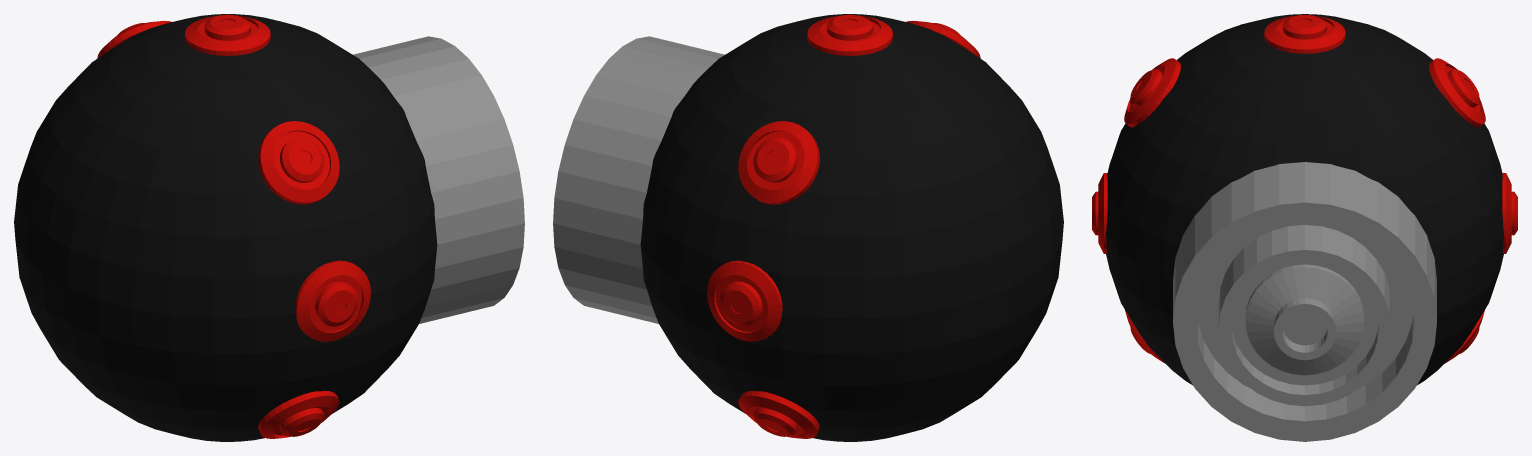
Rendered from bombv4.fbx.
The picture shows the model from 3 angles, left to right: view 1: azimuth 30°, elevation 25°; view 2: azimuth 150°, elevation 25°; view 3: azimuth 270°, elevation 25°; orthographic projection. The views are drawn at different scales.
Visible parts, largest first — view 1: Bomb; view 2: Bomb; view 3: Bomb.
Part boxes in pixels (left/top/right/bottom): Bomb: left=14, top=14, right=524, bottom=441; Bomb: left=553, top=14, right=1063, bottom=441; Bomb: left=1092, top=14, right=1517, bottom=441.
Size of the model in its own units: 234 by 212 by 210.
